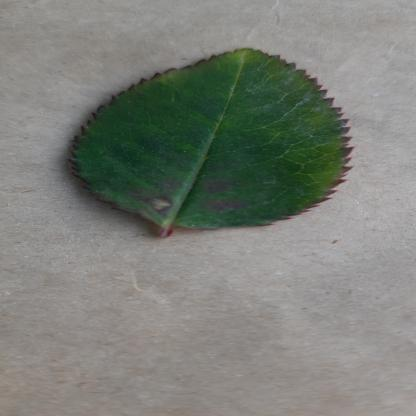downy-mildew: (63, 47, 359, 232)
